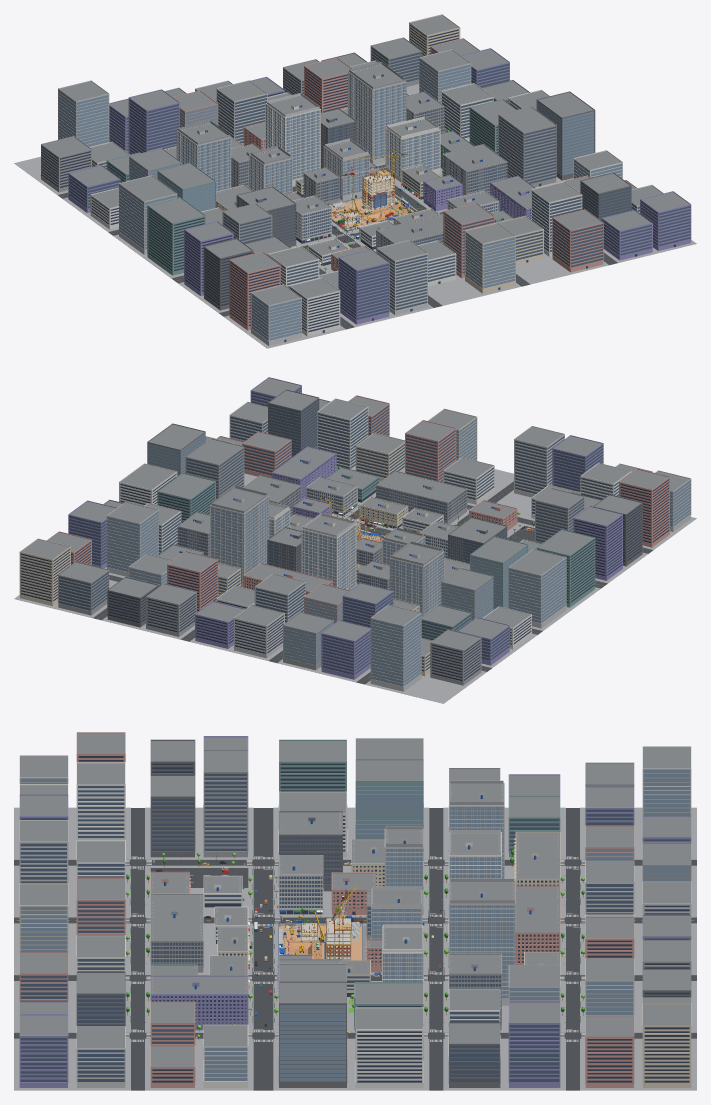
Rendered from canteiro_trabalho_altura_draco.glb.
3 views of the same model, one above another, from view 1: azimuth 30°, elevation 25°; view 2: azimuth 150°, elevation 25°; view 3: azimuth 270°, elevation 25° (orthographic). The views are drawn at different scales.
Visible parts, largest first — view 1: Cidade_Distante_Quadra_4_2, Cidade_Distante_Quadra_0_0, Cidade_Distante_Quadra_0_2, Cidade_Distante_Quadra_4_0, Cidade_Distante_Quadra_1_0, Cidade_Distante_Quadra_2_0, Cidade_Distante_Quadra_3_0, Cidade_Distante_Quadra_0_1, Calcadas_Quadras, Cidade_Distante_Quadra_0_4, Cidade_Distante_Quadra_4_3, Cidade_Distante_Quadra_1_4 (+29 smaller); view 2: Cidade_Distante_Quadra_0_2, Cidade_Distante_Quadra_4_2, Cidade_Distante_Quadra_1_4, Cidade_Distante_Quadra_3_4, Cidade_Distante_Quadra_0_4, Cidade_Distante_Quadra_2_4, Cidade_Distante_Quadra_0_1, Cidade_Distante_Quadra_4_3, Cidade_Distante_Quadra_4_4, Cidade_Distante_Quadra_0_3, Cidade_Distante_Quadra_2_0, Cidade_Distante_Quadra_3_0 (+28 smaller); view 3: Calcadas_Quadras, Vias_Asfalto, Cidade_Distante_Quadra_4_2, Cidade_Distante_Quadra_0_2, Cidade_Distante_Quadra_4_3, Cidade_Distante_Quadra_0_1, Cidade_Distante_Quadra_4_0, Cidade_Distante_Quadra_4_4, Cidade_Distante_Quadra_3_4, Cidade_Distante_Quadra_0_0, Cidade_Distante_Quadra_1_4, Cidade_Distante_Quadra_4_1 (+31 smaller).
Part boxes in pixels (x1,y1,x2,y2): Cidade_Distante_Quadra_4_2: [469, 89, 595, 187]; Cidade_Distante_Quadra_0_0: [229, 246, 340, 345]; Cidade_Distante_Quadra_0_2: [118, 162, 223, 275]; Cidade_Distante_Quadra_4_0: [580, 172, 691, 260]; Cidade_Distante_Quadra_1_0: [319, 240, 428, 324]; Cidade_Distante_Quadra_2_0: [417, 203, 515, 293]; Cidade_Distante_Quadra_3_0: [498, 181, 603, 272]; Cidade_Distante_Quadra_0_1: [184, 203, 290, 310]; Calcadas_Quadras: [14, 84, 696, 348]; Cidade_Distante_Quadra_0_4: [40, 80, 129, 192]; Cidade_Distante_Quadra_4_3: [419, 48, 529, 141]; Cidade_Distante_Quadra_1_4: [109, 87, 218, 154]; Cidade_Distante_Quadra_0_2: [470, 529, 595, 628]; Cidade_Distante_Quadra_4_2: [119, 423, 244, 522]; Cidade_Distante_Quadra_1_4: [282, 582, 393, 679]; Cidade_Distante_Quadra_3_4: [107, 551, 218, 636]; Cidade_Distante_Quadra_0_4: [370, 604, 481, 691]; Cidade_Distante_Quadra_2_4: [195, 573, 305, 658]; Cidade_Distante_Quadra_0_1: [535, 488, 642, 580]; Cidade_Distante_Quadra_4_3: [68, 499, 181, 577]; Cidade_Distante_Quadra_4_4: [19, 531, 109, 615]; Cidade_Distante_Quadra_0_3: [421, 568, 532, 665]; Cidade_Distante_Quadra_2_0: [405, 408, 494, 504]; Cidade_Distante_Quadra_3_0: [317, 395, 404, 481]; Calcadas_Quadras: [14, 807, 696, 1090]; Vias_Asfalto: [14, 808, 696, 1090]; Cidade_Distante_Quadra_4_2: [278, 963, 423, 1087]; Cidade_Distante_Quadra_0_2: [278, 738, 423, 857]; Cidade_Distante_Quadra_4_3: [448, 965, 560, 1087]; Cidade_Distante_Quadra_0_1: [150, 736, 248, 857]; Cidade_Distante_Quadra_4_0: [19, 972, 125, 1087]; Cidade_Distante_Quadra_4_4: [585, 997, 691, 1087]; Cidade_Distante_Quadra_3_4: [585, 916, 691, 1014]; Cidade_Distante_Quadra_0_0: [19, 732, 125, 840]; Cidade_Distante_Quadra_1_4: [585, 786, 691, 881]; Cidade_Distante_Quadra_4_1: [150, 1001, 248, 1087].
Size of what is drawn, in the model's own units: 480 by 86.05 by 490.
Materials: 9 (9 with a texture image).
